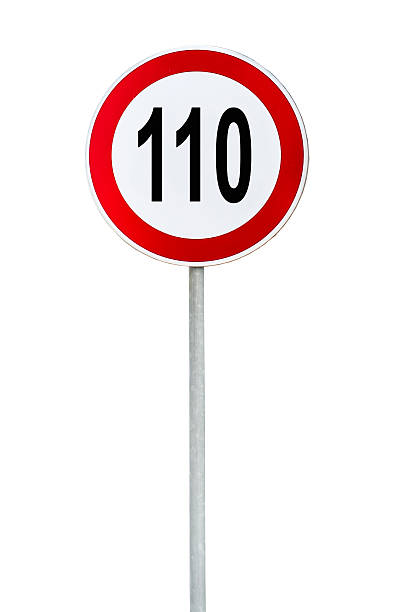Speed_limit_110km: (87, 46, 310, 265)
